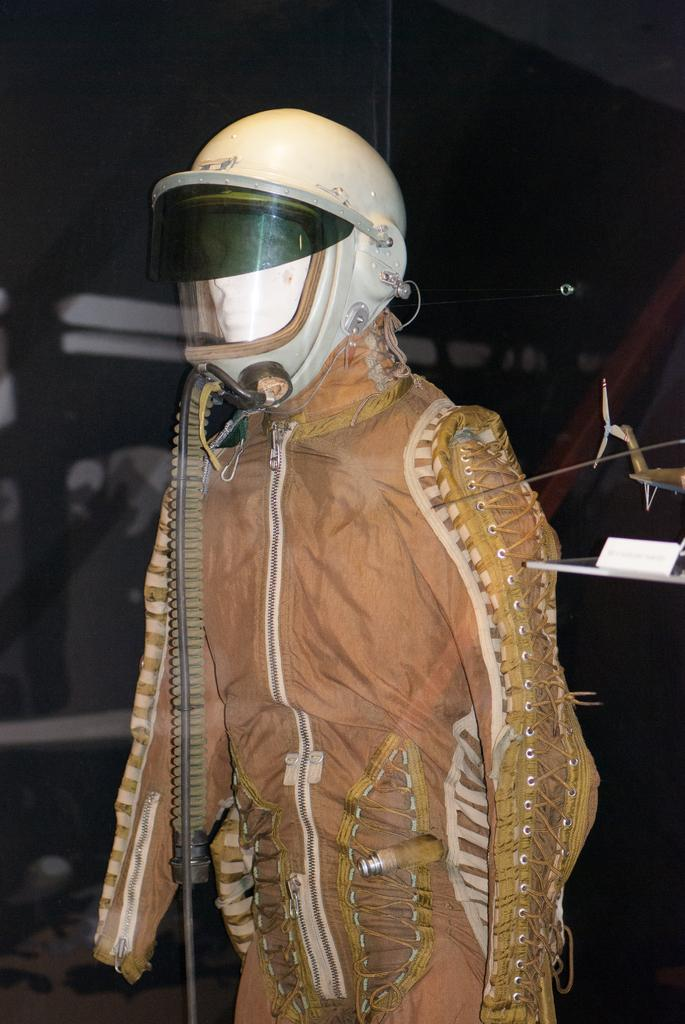helmet: (145, 108, 407, 409)
